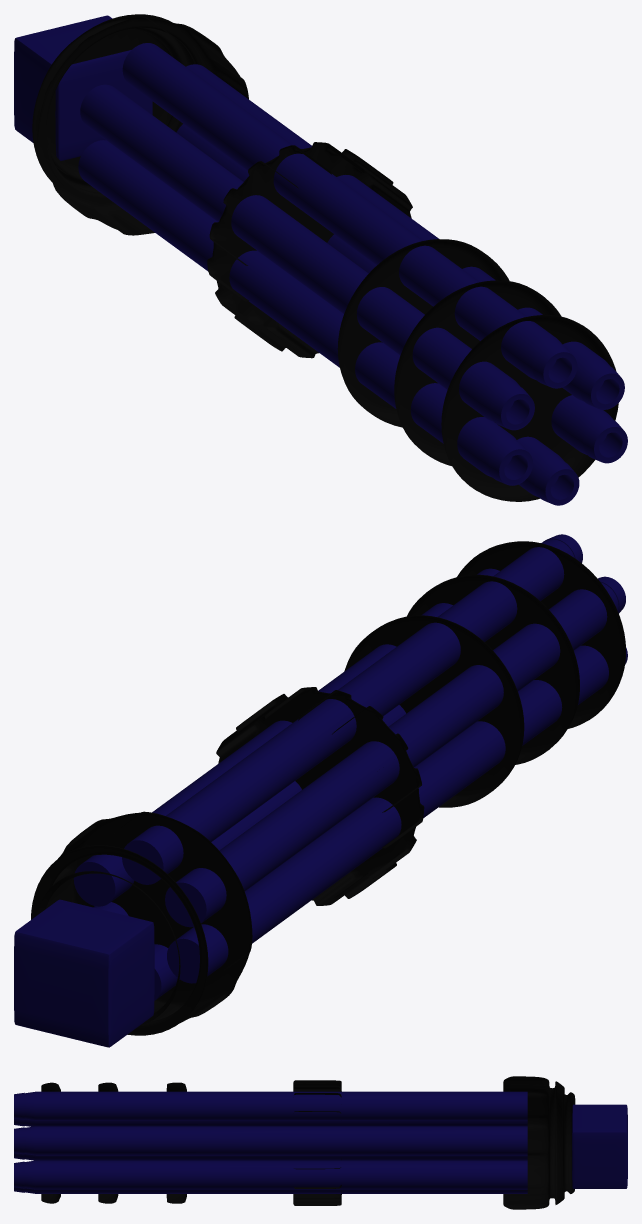
Rendered from minigun.fbx.
3 renders of one model, top to bottom at view 1: azimuth 30°, elevation 25°; view 2: azimuth 150°, elevation 25°; view 3: azimuth 270°, elevation 25°, orthographic. The views are drawn at different scales.
Parts seen in each view (by area): view 1: barrels, base, barrels holder middle, barrels holder.001, minigun hand connector, barrels holder, barrels holder.002; view 2: barrels, minigun hand connector, base, barrels holder middle, barrels holder, barrels holder.002, barrels holder.001; view 3: barrels, base, minigun hand connector, barrels holder middle, barrels holder, barrels holder.002, barrels holder.001.
Part boxes in pixels (x1=…): barrels: x1=78, y1=43, x2=627, y2=505; base: x1=32, y1=14, x2=248, y2=235; barrels holder middle: x1=207, y1=142, x2=412, y2=358; barrels holder.001: x1=441, y1=315, x2=618, y2=501; minigun hand connector: x1=14, y1=15, x2=152, y2=160; barrels holder: x1=337, y1=239, x2=509, y2=427; barrels holder.002: x1=394, y1=280, x2=561, y2=465; barrels: x1=73, y1=534, x2=627, y2=1000; minigun hand connector: x1=14, y1=899, x2=154, y2=1047; base: x1=31, y1=811, x2=252, y2=1035; barrels holder middle: x1=216, y1=687, x2=424, y2=905; barrels holder: x1=344, y1=615, x2=524, y2=807; barrels holder.002: x1=407, y1=574, x2=579, y2=764; barrels holder.001: x1=457, y1=541, x2=625, y2=728; barrels: x1=14, y1=1091, x2=527, y2=1193; base: x1=503, y1=1076, x2=575, y2=1209; minigun hand connector: x1=572, y1=1104, x2=627, y2=1188; barrels holder middle: x1=293, y1=1080, x2=341, y2=1205; barrels holder: x1=166, y1=1082, x2=187, y2=1203; barrels holder.002: x1=98, y1=1082, x2=118, y2=1203; barrels holder.001: x1=41, y1=1082, x2=61, y2=1203.
Bounding box in the file's own units: 29.43 × 29.43 × 138.
